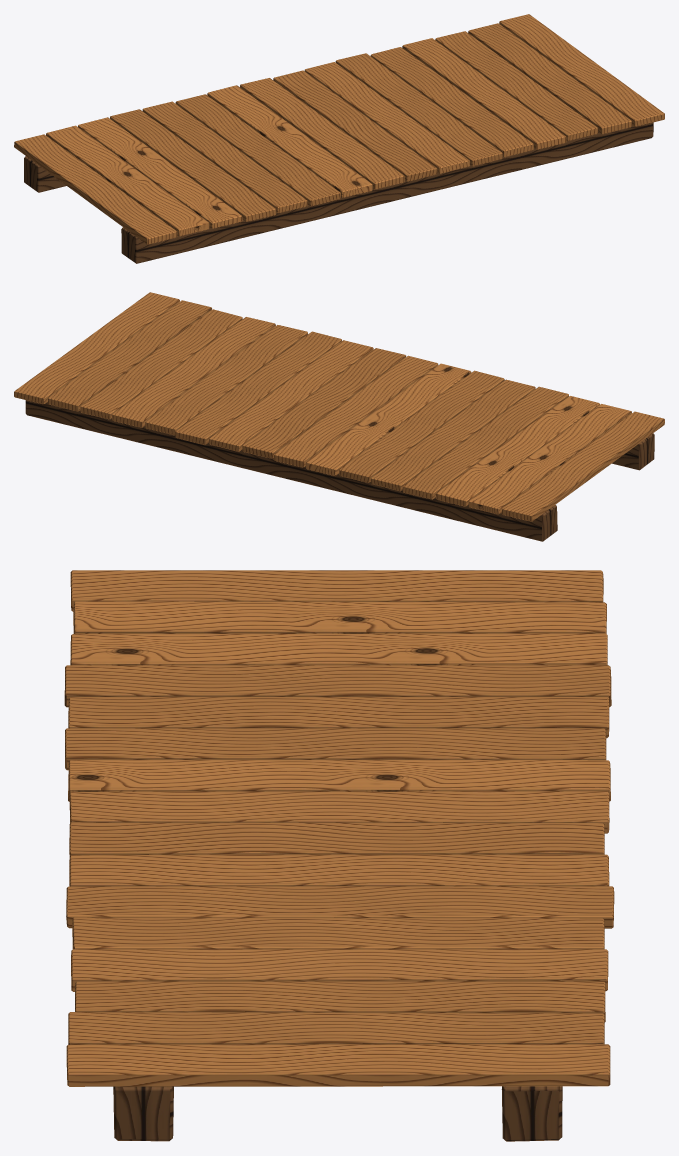
File: Deck_4m.glb
The picture shows the model from 3 angles, top to bottom: view 1: azimuth 30°, elevation 25°; view 2: azimuth 150°, elevation 25°; view 3: azimuth 270°, elevation 25°; orthographic projection. The views are drawn at different scales.
Visible parts, largest first — view 1: Deck_4m; view 2: Deck_4m; view 3: Deck_4m.
Part boxes in pixels (left/top/right/bottom): Deck_4m: left=14, top=14, right=664, bottom=263; Deck_4m: left=14, top=292, right=664, bottom=541; Deck_4m: left=64, top=570, right=614, bottom=1141.
Bounding box in the file's own units: 4 × 0.2546 × 1.84.
2 materials, 2 textured.
